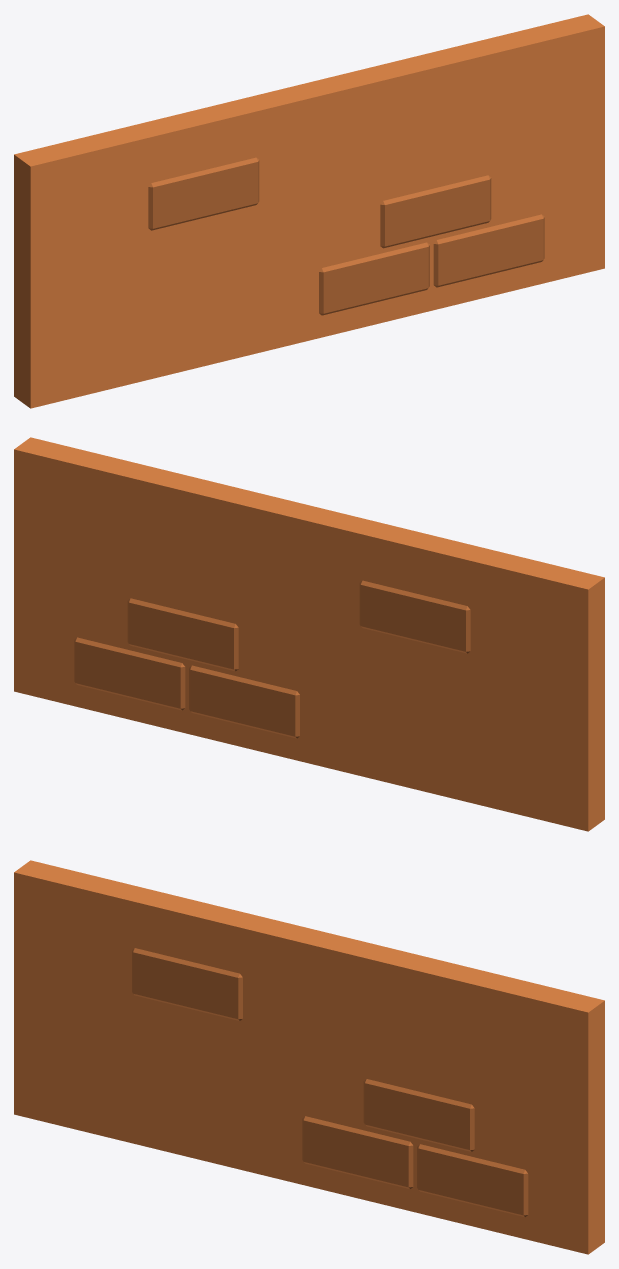
The model's file is wallAboveDoor.fbx.
The picture shows the model from 3 angles, top to bottom: view 1: azimuth 30°, elevation 25°; view 2: azimuth 150°, elevation 25°; view 3: azimuth 330°, elevation 25°; orthographic projection.
Parts seen in each view (by area): view 1: Wall Above Door; view 2: Wall Above Door; view 3: Wall Above Door.
Boxes of the visible parts, x1,y1,x2,y2 form: Wall Above Door: [14, 14, 604, 408]; Wall Above Door: [14, 437, 604, 831]; Wall Above Door: [14, 860, 604, 1254].
Bounding box in the file's own units: 400 × 24.1 × 161.
